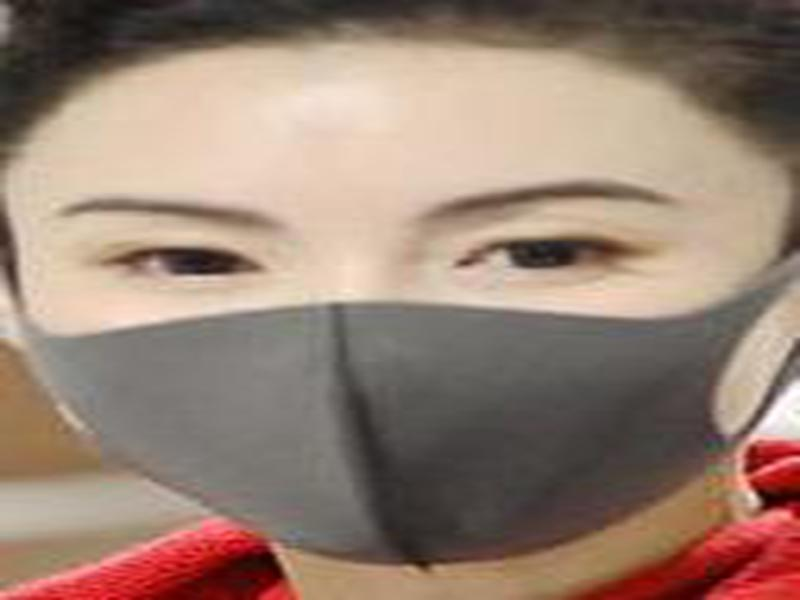with_mask: (1, 38, 799, 576)
